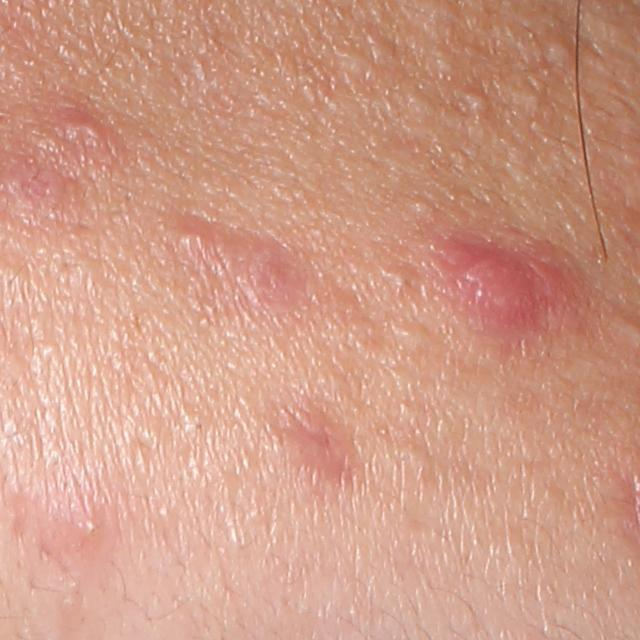comedo: (430, 45, 463, 76), (546, 36, 575, 65), (409, 196, 439, 221), (459, 90, 487, 114)
papule: (435, 236, 566, 338), (239, 241, 302, 304), (0, 160, 65, 220), (58, 104, 115, 150), (173, 219, 230, 261)
